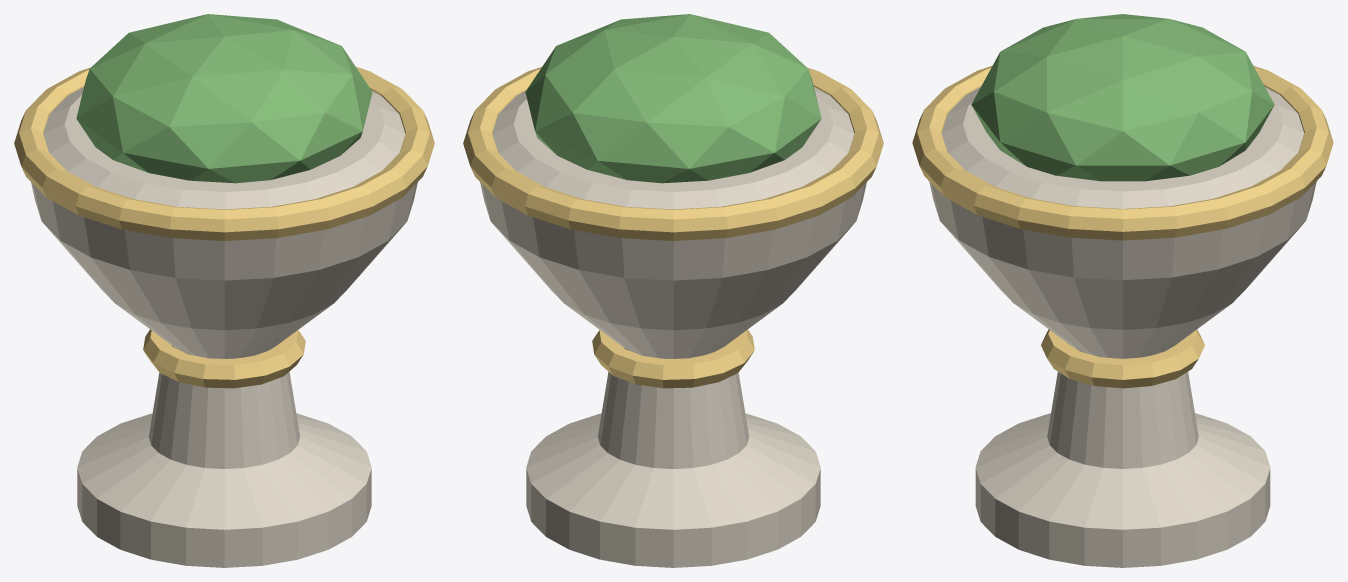
File: HOB_Urn.fbx
3 views of the same model, side by side, from view 1: azimuth 30°, elevation 25°; view 2: azimuth 150°, elevation 25°; view 3: azimuth 270°, elevation 25° (orthographic).
Visible parts, largest first — view 1: HOB_Urn; view 2: HOB_Urn; view 3: HOB_Urn.
Boxes of the visible parts, box(x1,y1,x2,y2) form: HOB_Urn: box(14, 14, 434, 567); HOB_Urn: box(463, 14, 883, 567); HOB_Urn: box(912, 14, 1333, 567).
Bounding box in the file's own units: 100 × 123 × 100.
